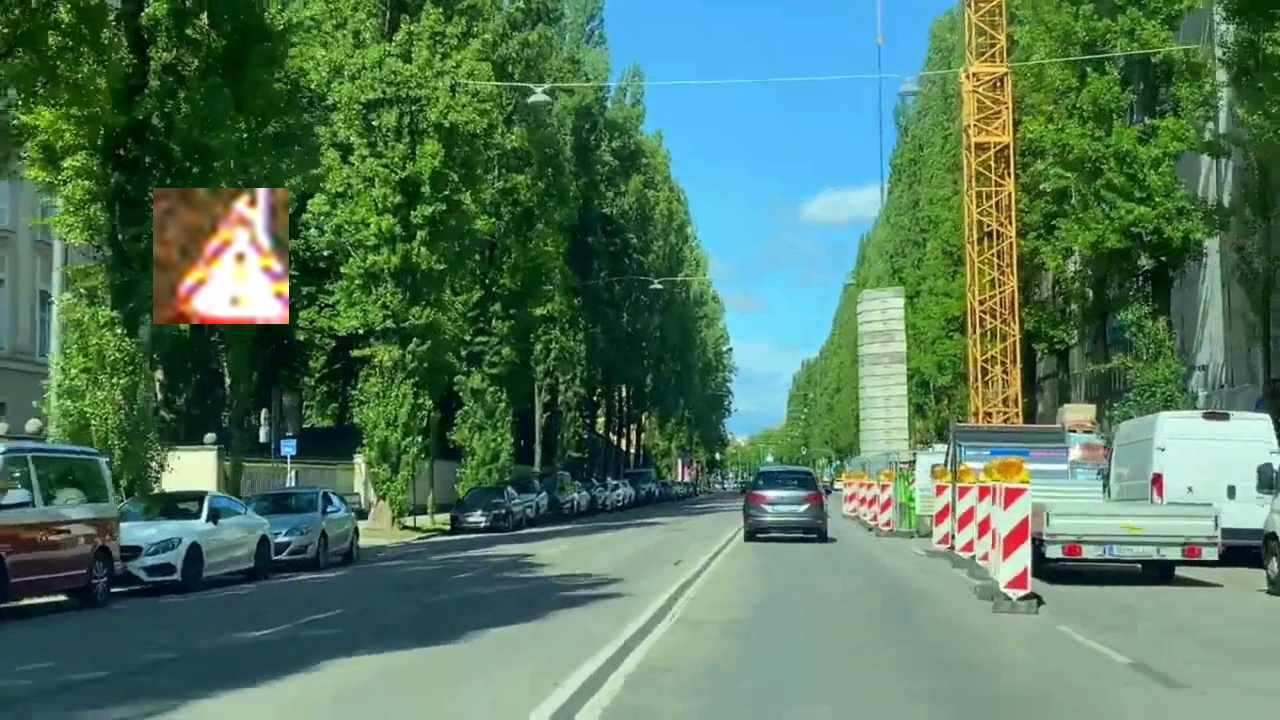Signals: (153, 188, 289, 324)
